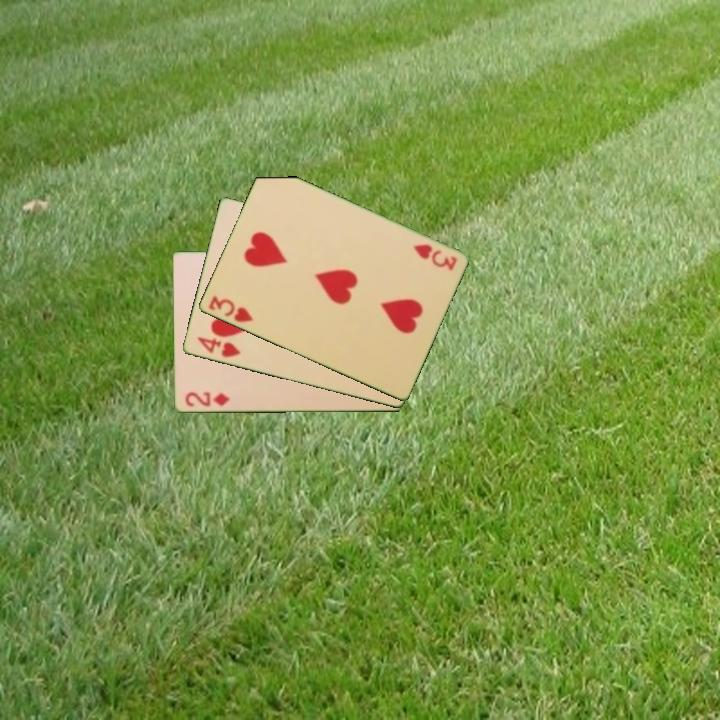2d: (181, 388, 232, 409)
3h: (409, 240, 460, 274), (205, 292, 256, 325)
4h: (193, 333, 243, 361)
